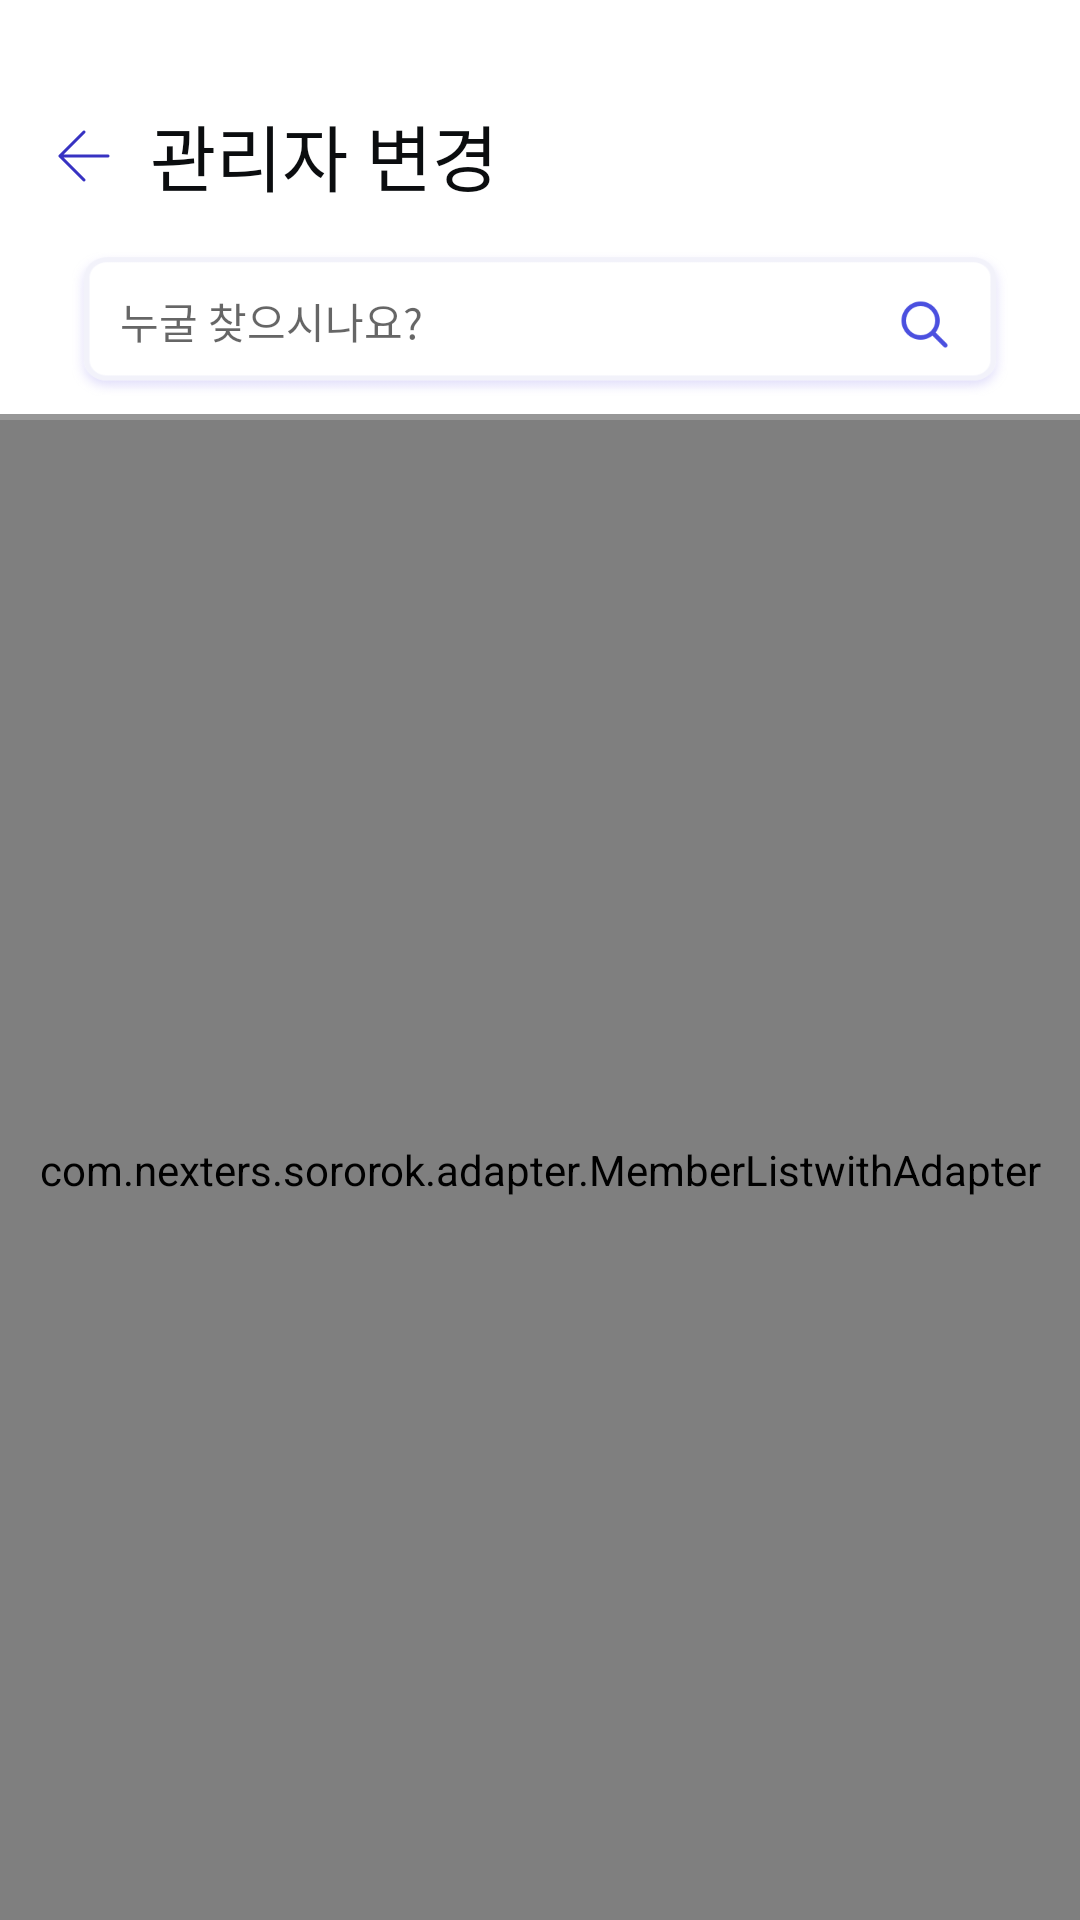

Screen size 1080x1920. Icon name, then its box in pixels as [x1=x1, y1=y1, x2=x2, y2=y2]:
comm search check bl: [x1=901, y1=301, x2=948, y2=348]
